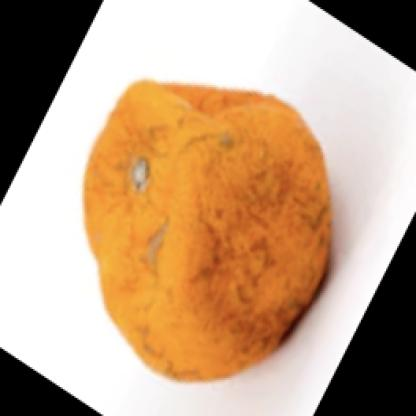rotten: (83, 79, 335, 379)
